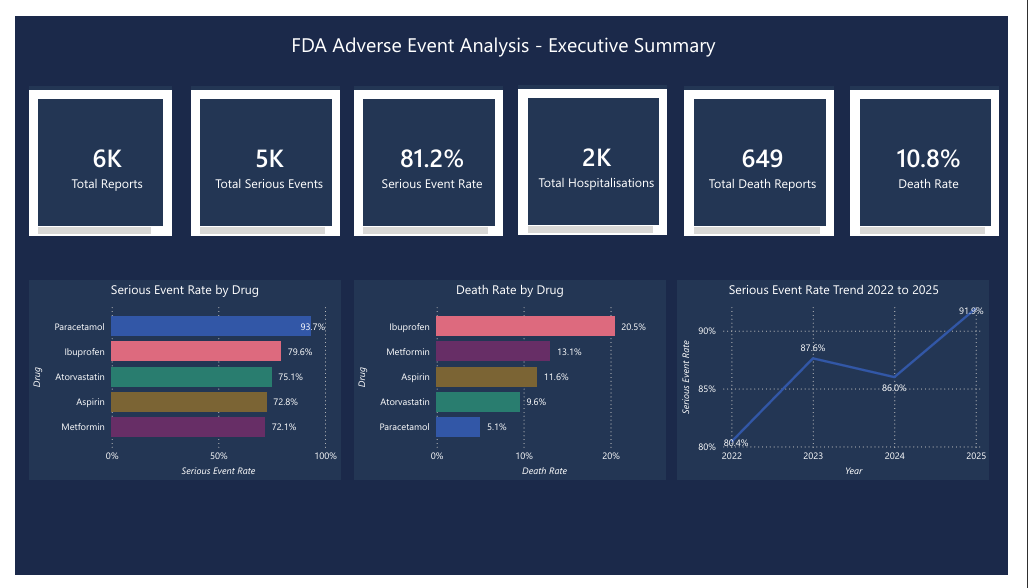

What the dashboard file says about the page in this screenshot:
{"tool":"powerbi","page":{"name":"Executive Summary","canvas":[1280,720],"ordinal":0},"visuals":[{"type":"cardVisual","title":"Total Report","fields":{"Data":["fda_adverse_events.Total Reports"]},"box":[17.8,90,184.4,192.2],"z":0},{"type":"cardVisual","fields":{"Data":["fda_adverse_events.Total Serious Events"]},"box":[226.7,90,192.2,192.2],"z":1000},{"type":"cardVisual","fields":{"Data":["fda_adverse_events.Total Death Reports"]},"box":[863.3,90,192.2,192.2],"z":2000},{"type":"cardVisual","fields":{"Data":["fda_adverse_events.Total Hospitalisations"]},"box":[648.9,88.9,192.2,192.2],"z":3000},{"type":"cardVisual","fields":{"Data":["fda_adverse_events.Serious Event Rate"]},"box":[436.7,90,192.2,192.2],"z":4000},{"type":"cardVisual","fields":{"Data":["fda_adverse_events.Death Rate"]},"box":[1076.7,90,192.2,192.2],"z":5000},{"type":"textbox","title":"FDA Adverse Event Analysis - Executive Summary","box":[17.8,17.8,1222.2,40],"z":6000},{"type":"clusteredBarChart","title":"Serious Event Rate by Drug","fields":{"Category":["fda_adverse_events.drug_name"],"Y":["fda_adverse_events.Serious Event Rate"]},"box":[17.8,340,401.1,256.7],"z":7000},{"type":"clusteredBarChart","title":"Death Rate by Drug","fields":{"Category":["fda_adverse_events.drug_name"],"Y":["fda_adverse_events.Death Rate"]},"box":[436.7,340,401.1,256.7],"z":8000},{"type":"lineChart","title":"Serious Event Rate Trend 2022 to 2025","fields":{"Category":["fda_adverse_events.year"],"Y":["fda_adverse_events.Serious Event Rate"]},"box":[854.4,340,401.1,256.7],"z":9000}]}

Visuals, with their boxes in screenshot pixels (x1, y1, x2, y2), scaled from the page's 1280x720 canvas onto the 1028x588 screenshot:
"Total Report" cardVisual: x1=14, y1=74, x2=162, y2=230
cardVisual - fda_adverse_events.Total Serious Events: x1=182, y1=74, x2=336, y2=230
cardVisual - fda_adverse_events.Total Death Reports: x1=693, y1=74, x2=848, y2=230
cardVisual - fda_adverse_events.Total Hospitalisations: x1=521, y1=73, x2=676, y2=230
cardVisual - fda_adverse_events.Serious Event Rate: x1=351, y1=74, x2=505, y2=230
cardVisual - fda_adverse_events.Death Rate: x1=865, y1=74, x2=1019, y2=230
"FDA Adverse Event Analysis - Executive Summary" textbox: x1=14, y1=15, x2=996, y2=47
"Serious Event Rate by Drug" clusteredBarChart: x1=14, y1=278, x2=336, y2=487
"Death Rate by Drug" clusteredBarChart: x1=351, y1=278, x2=673, y2=487
"Serious Event Rate Trend 2022 to 2025" lineChart: x1=686, y1=278, x2=1008, y2=487
